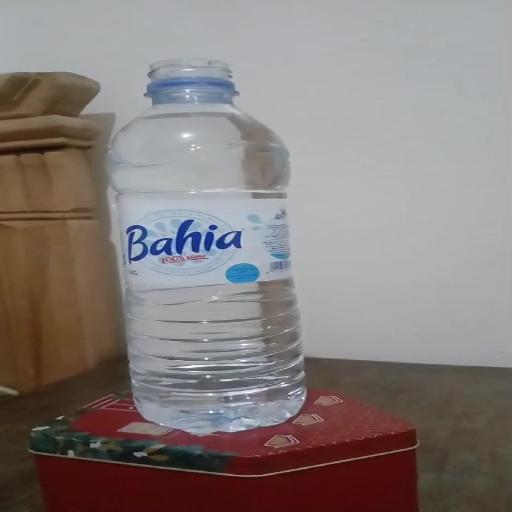bouteille non conformite: (146, 57, 280, 129)
